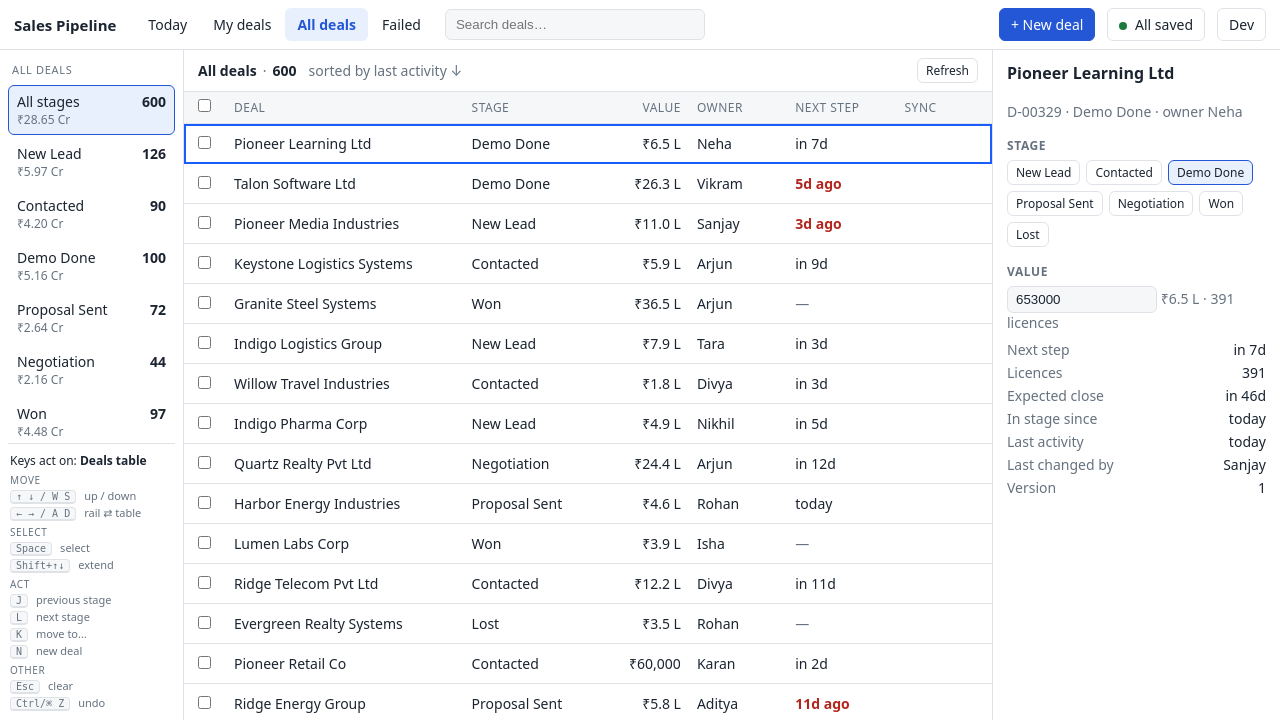
grid accessibility and keyboard › one stage filter drives the filter bar, the rail highlight, the rail cursor and the rows › selecting a stage, then switching to All deals, resets everything to "All stages"
The image size is (1280, 720).
Click the tab "Today". click: (168, 24)
box: x1=136 y1=8 x2=199 y2=41
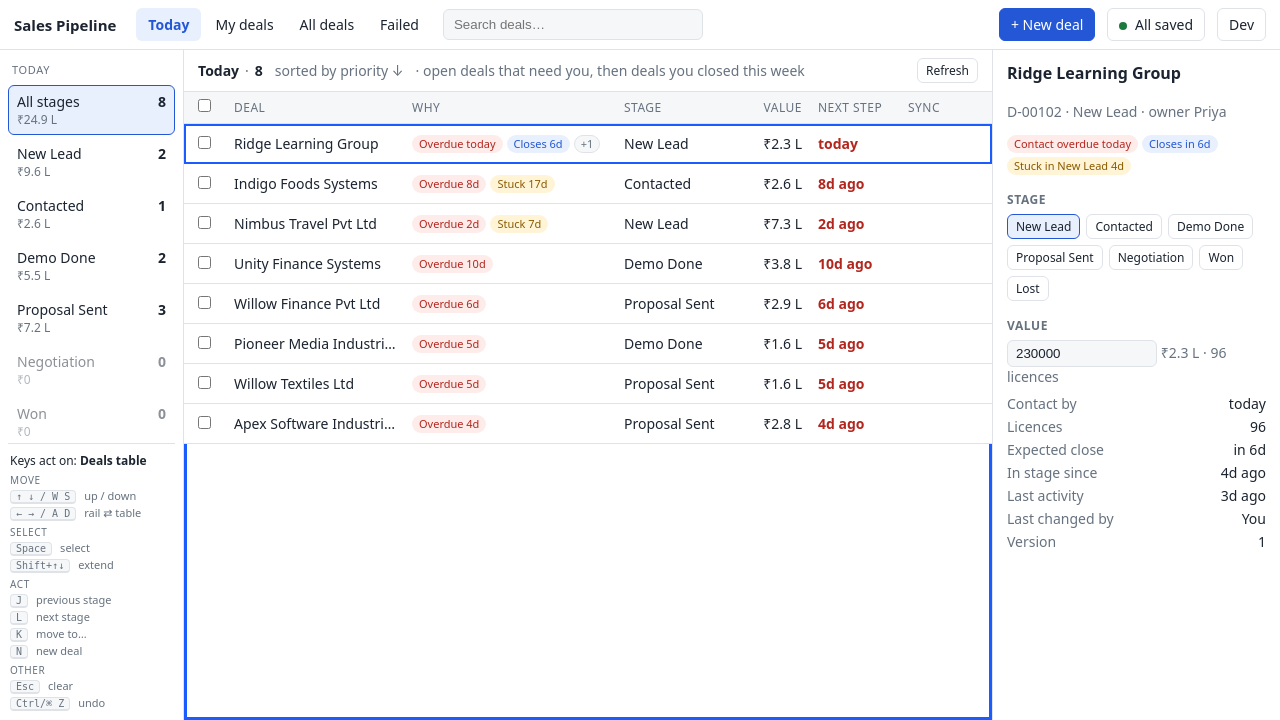
Click the button "Contacted 1 ₹2.6 L". click: (92, 214)
box: x1=8 y1=189 x2=175 y2=239
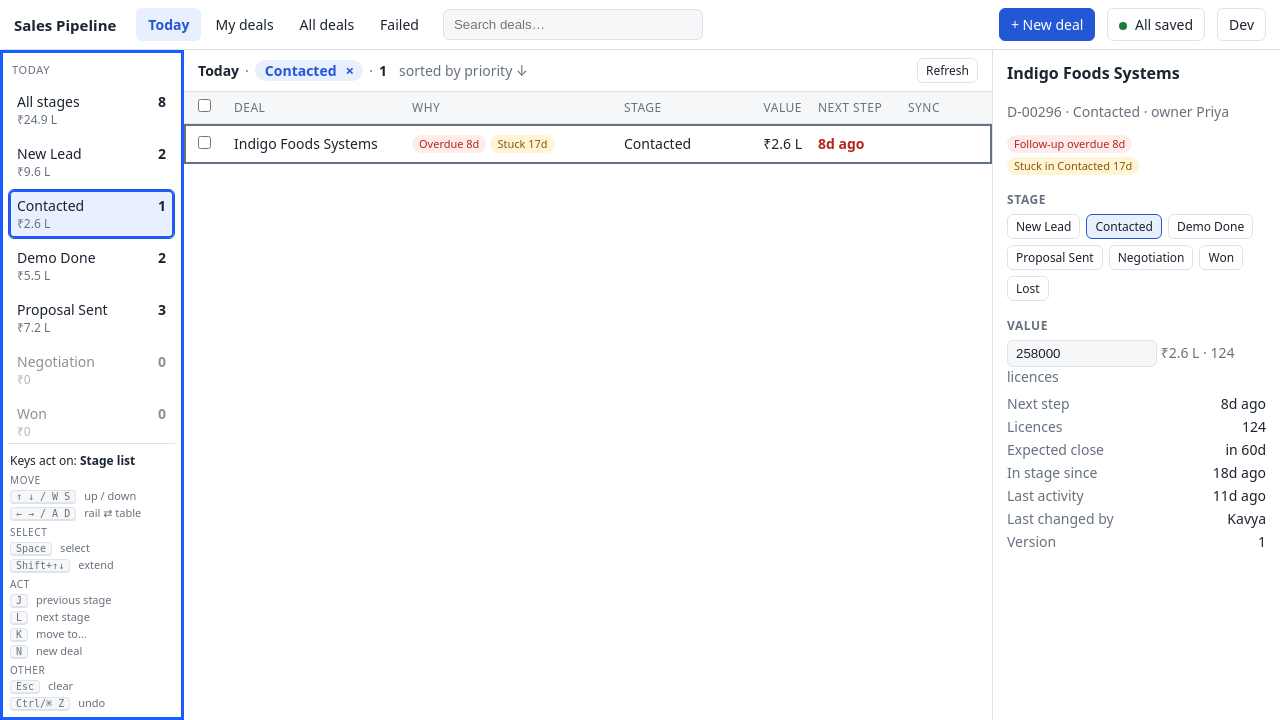
Click the tab "All deals". click: (327, 24)
box: x1=288 y1=8 x2=366 y2=41
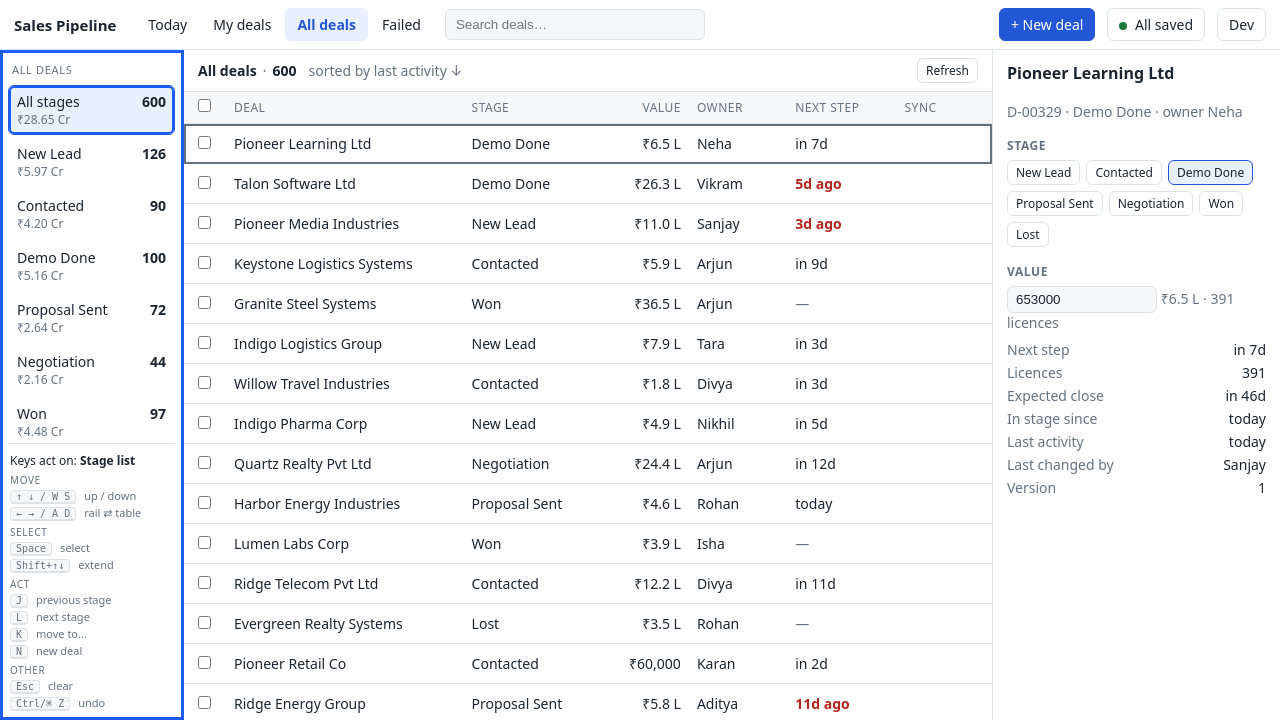
Now the button "All stages 600 ₹28.65 Cr" is shown, box x1=8 y1=85 x2=175 y2=135
